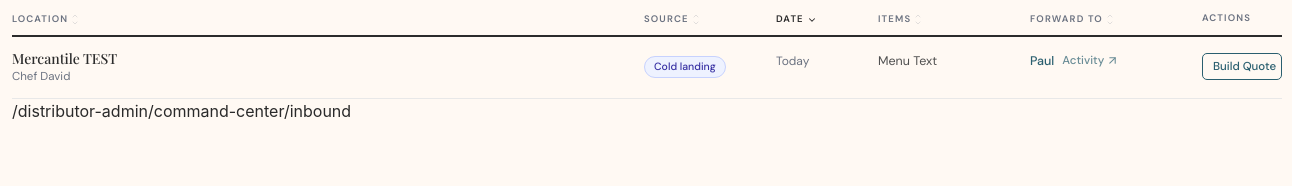
RoutingTable: Build Quote on a menu drop › shows the server's message and offers Retry when convert is refused
This screenshot has width=1292, height=186.
Click the button "Build Quote": (1242, 67) [1202,53,1282,80]
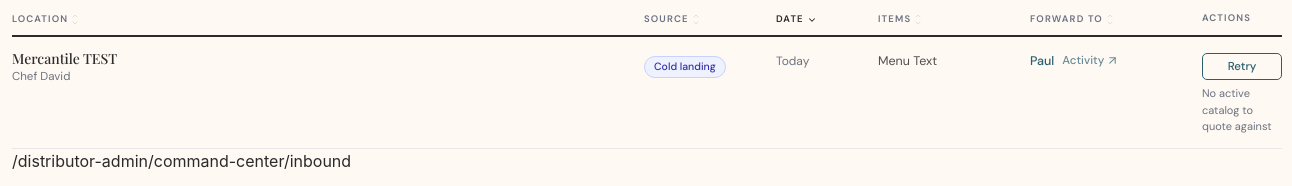
Check: the text "No active catalog to quote against" is shown, box [1202,85,1282,135]
Check: the button "Retry" is shown, box [1202,53,1282,80]
